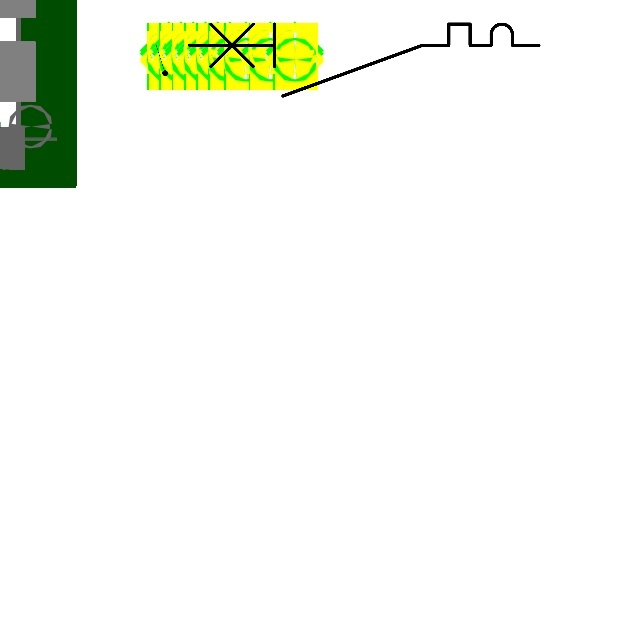interruptor_termomagnetico: (180, 15, 547, 105)
